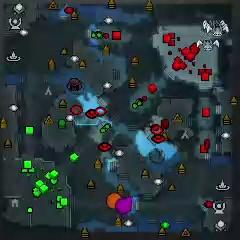p3: (115, 196, 133, 213)
p5: (106, 192, 121, 209)
